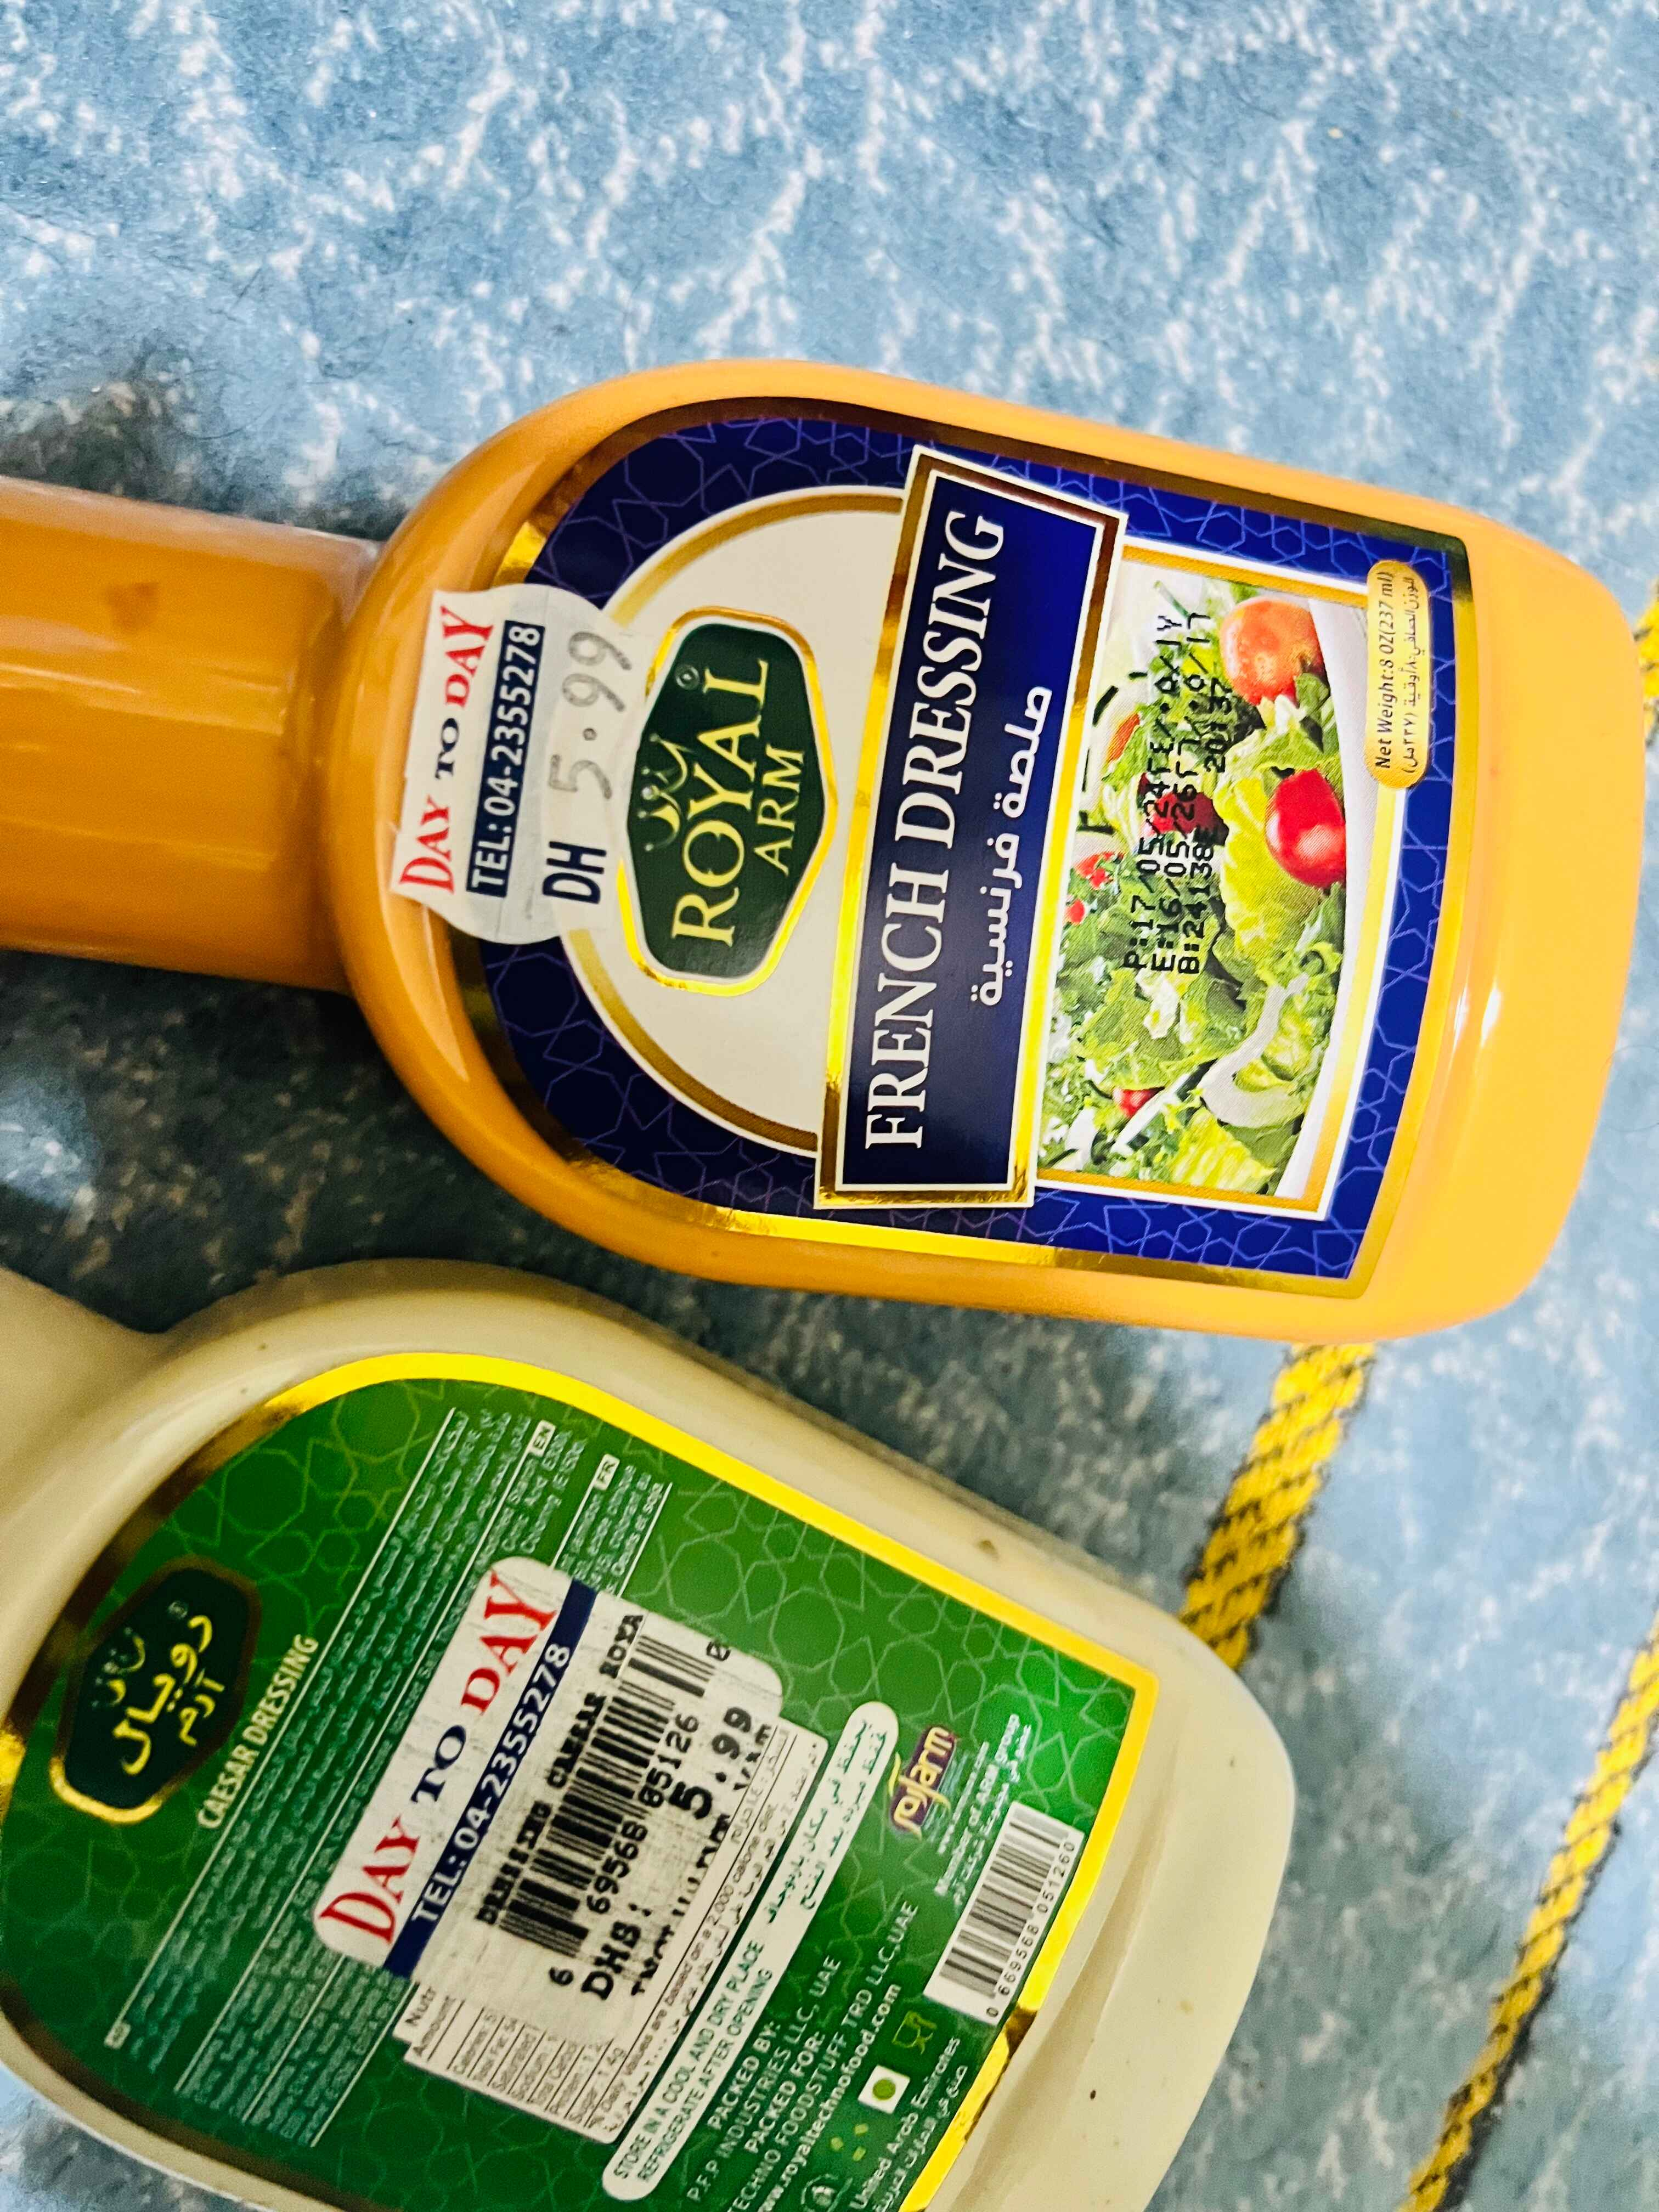PriceTagBig: (307, 1555, 779, 2052)
PriceTagSmall: (389, 592, 653, 948)
